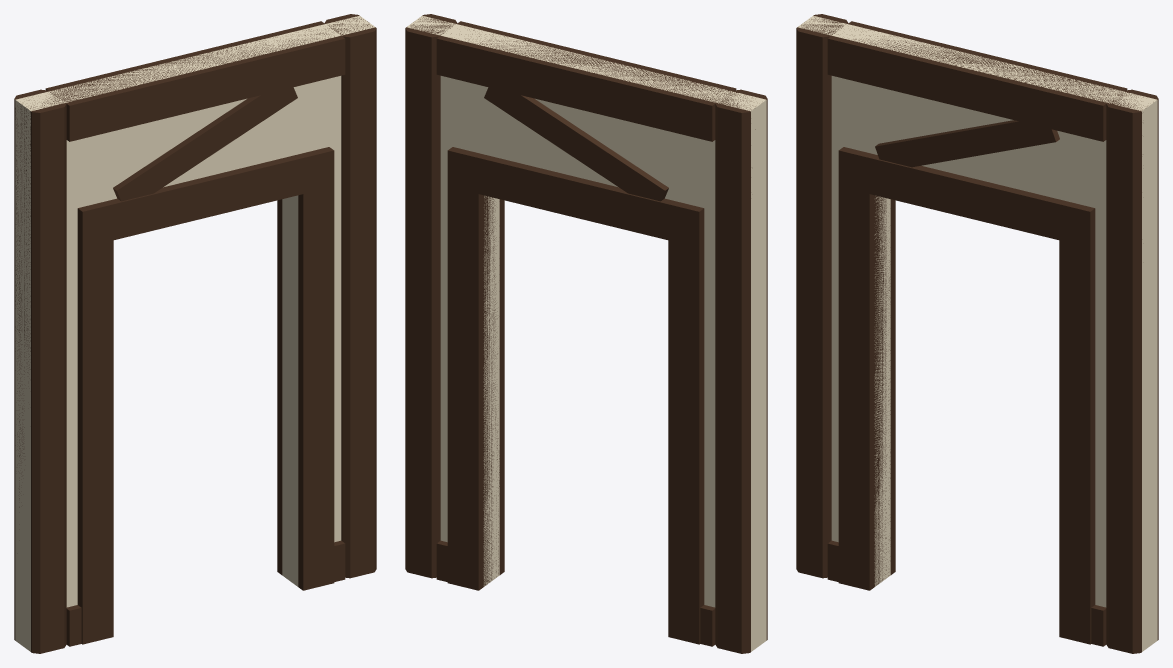
Rendered from wall_plaster_door_lod0.glb.
3 views of the same model, side by side, from view 1: azimuth 30°, elevation 25°; view 2: azimuth 150°, elevation 25°; view 3: azimuth 330°, elevation 25° (orthographic).
Parts seen in each view (by area): view 1: wall_plaster_door; view 2: wall_plaster_door; view 3: wall_plaster_door.
Part boxes in pixels (bbox=[...]): wall_plaster_door: bbox=[14, 14, 376, 653]; wall_plaster_door: bbox=[405, 14, 767, 653]; wall_plaster_door: bbox=[796, 14, 1158, 653].
Size of the model in its own units: 2 by 3 by 0.26.
